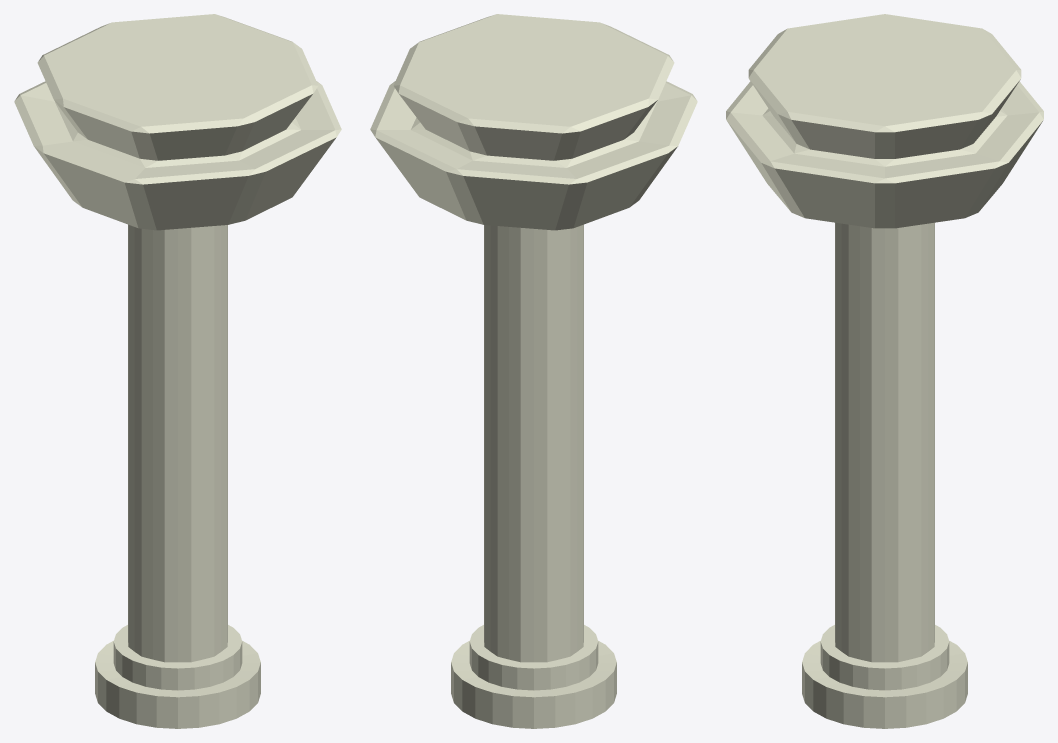
Rendered from column.fbx.
3 renders of one model, left to right at view 1: azimuth 30°, elevation 25°; view 2: azimuth 150°, elevation 25°; view 3: azimuth 270°, elevation 25°, orthographic.
Visible parts, largest first — view 1: Circle.008; view 2: Circle.008; view 3: Circle.008.
Boxes of the visible parts, <box> form: Circle.008: <box>14,14,341,728</box>; Circle.008: <box>370,14,697,728</box>; Circle.008: <box>726,14,1043,728</box>.
Bounding box in the file's own units: 1504 × 3214 × 1484.
